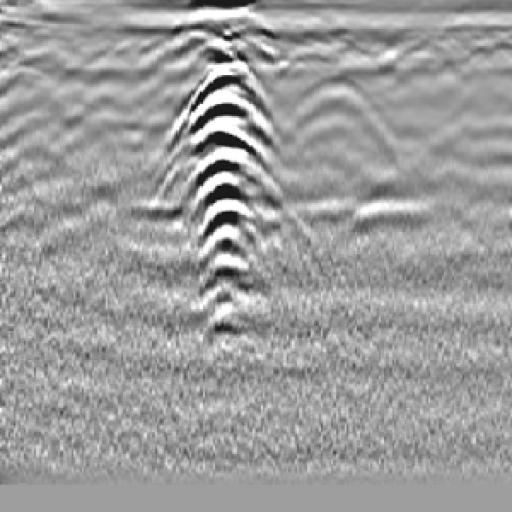metalic: (167, 33, 283, 339)
nonmetalic: (251, 74, 421, 198)
